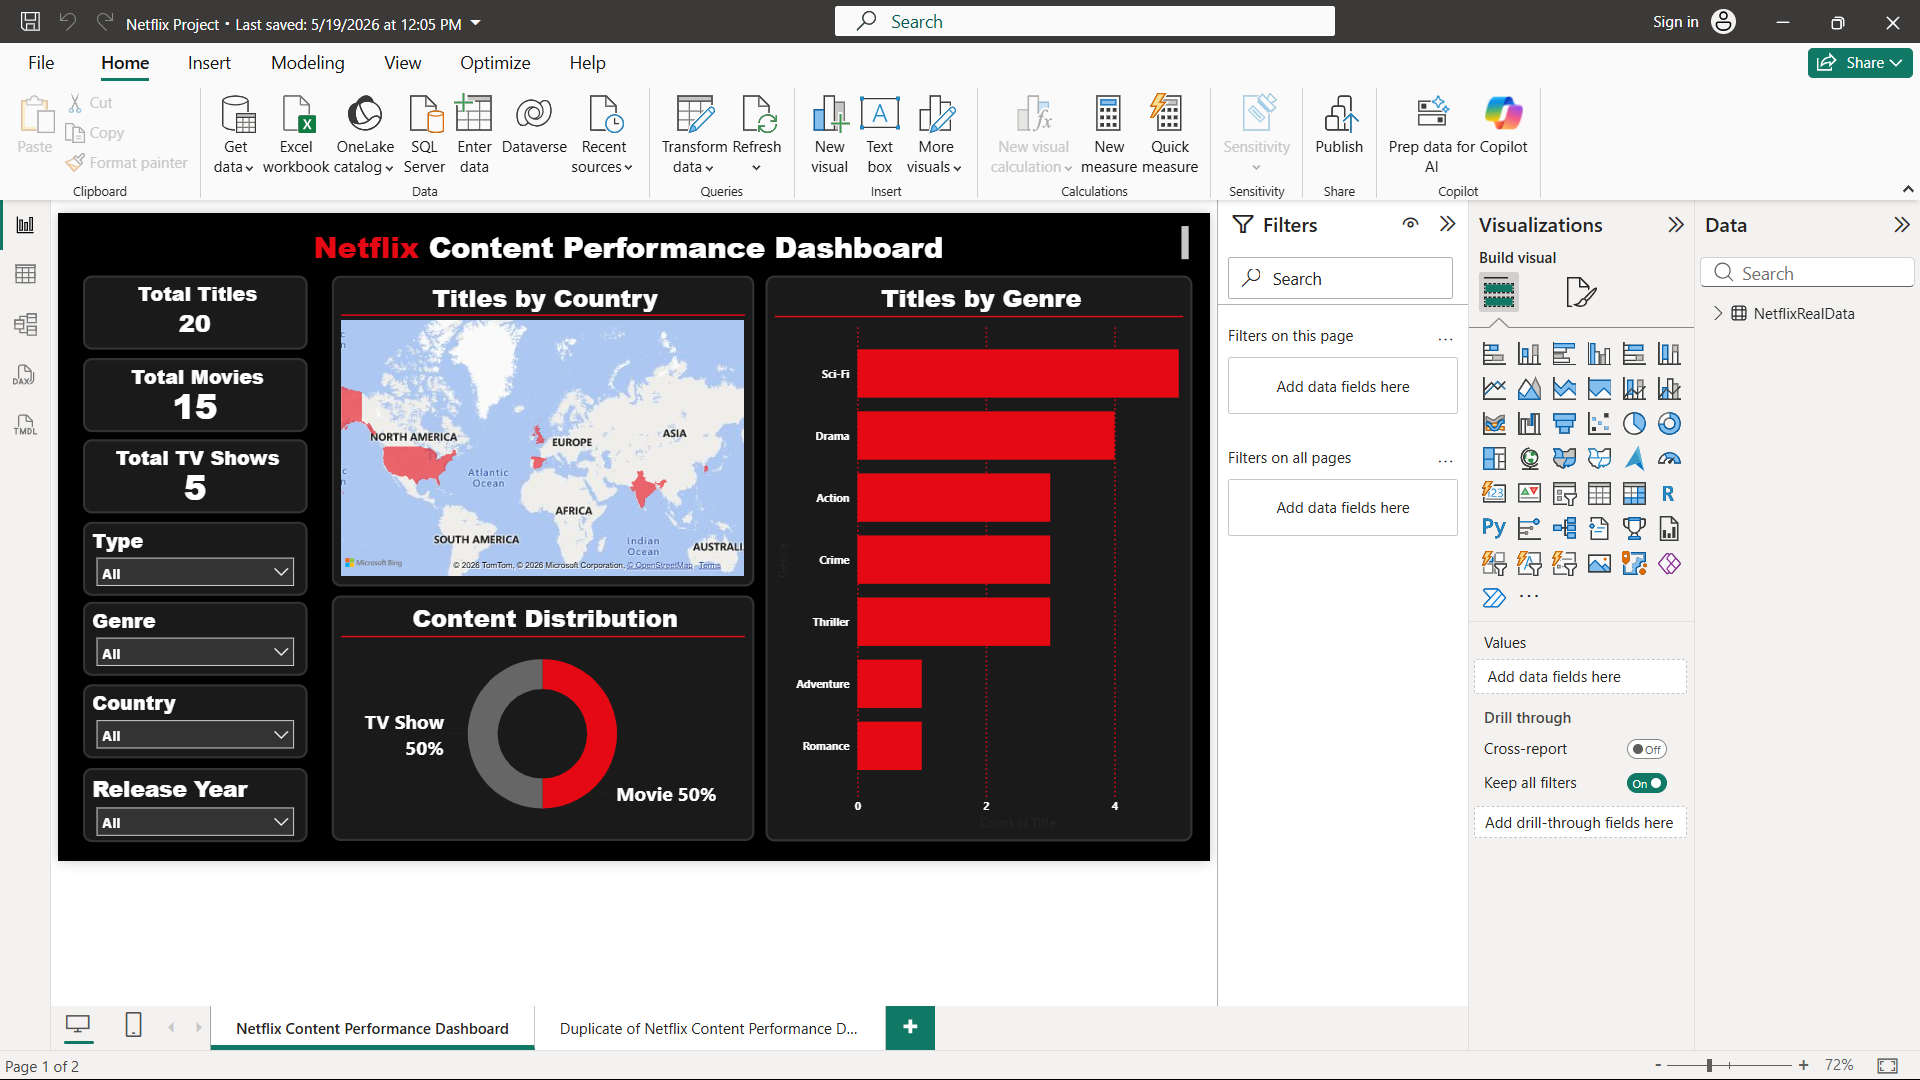

The dashboard page shown, as its layout file describes it:
{"tool":"powerbi","page":{"name":"Netflix Content Performance Dashboard","canvas":[1280,720],"ordinal":0},"visuals":[{"type":"card","title":"Total Titles","fields":{"Values":["NetflixRealData.Total Titles"]},"box":[27.4,70,249.7,82.3],"z":0},{"type":"textbox","title":"Netflix ","box":[13.7,9.6,1247.3,50.8],"z":1000},{"type":"card","title":"Total Movies","fields":{"Values":["NetflixRealData.Total Movies"]},"box":[27.4,160.5,249.7,82.3],"z":2000},{"type":"card","title":"Total TV Shows","fields":{"Values":["NetflixRealData.Total TV Shows"]},"box":[27.4,251.1,249.7,82.3],"z":3000},{"type":"donutChart","title":"Content Distribution","fields":{"Category":["NetflixRealData.Type"],"Y":["NetflixRealData.Total TV Shows"]},"box":[304.6,425.4,469.3,273.1],"z":4000},{"type":"barChart","title":"Titles by Genre","fields":{"Y":["CountNonNull(NetflixRealData.Title)"],"Category":["NetflixRealData.Genre"]},"box":[786.3,70,474.8,628.5],"z":5000},{"type":"filledMap","title":"Titles by Country","fields":{"Category":["NetflixRealData.Country"]},"box":[304.6,70,469.3,345.8],"z":6000},{"type":"slicer","title":"Type","fields":{"Values":["NetflixRealData.Type"]},"box":[27.4,343.1,249.7,82.3],"z":7000},{"type":"slicer","title":"Genre","fields":{"Values":["NetflixRealData.Genre"]},"box":[27.4,432.2,249.7,82.3],"z":8000},{"type":"slicer","title":"Country","fields":{"Values":["NetflixRealData.Country"]},"box":[27.4,524.2,249.7,82.3],"z":9000},{"type":"slicer","title":"Release Year","fields":{"Values":["NetflixRealData.ReleaseYear"]},"box":[27.4,616.1,249.7,82.3],"z":10000}]}

Visuals, with their boxes on the page's 1280x720 design canvas (x1, y1, x2, y2). These are canvas units, not pixel positions in the 1920x1080 screenshot, which may show the page scaled, cropped or inside an application window:
"Total Titles" card: <region>27, 70, 277, 152</region>
"Netflix " textbox: <region>14, 10, 1261, 60</region>
"Total Movies" card: <region>27, 160, 277, 243</region>
"Total TV Shows" card: <region>27, 251, 277, 333</region>
"Content Distribution" donutChart: <region>305, 425, 774, 698</region>
"Titles by Genre" barChart: <region>786, 70, 1261, 698</region>
"Titles by Country" filledMap: <region>305, 70, 774, 416</region>
"Type" slicer: <region>27, 343, 277, 425</region>
"Genre" slicer: <region>27, 432, 277, 514</region>
"Country" slicer: <region>27, 524, 277, 606</region>
"Release Year" slicer: <region>27, 616, 277, 698</region>
